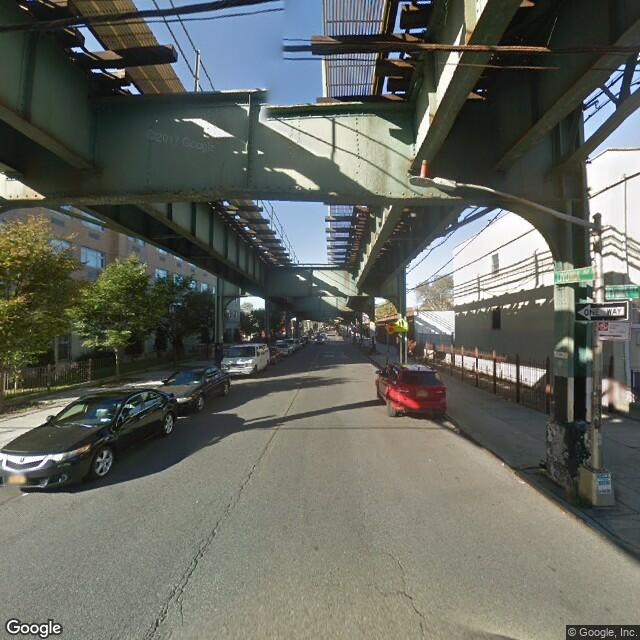litter: (500, 462, 508, 467)
